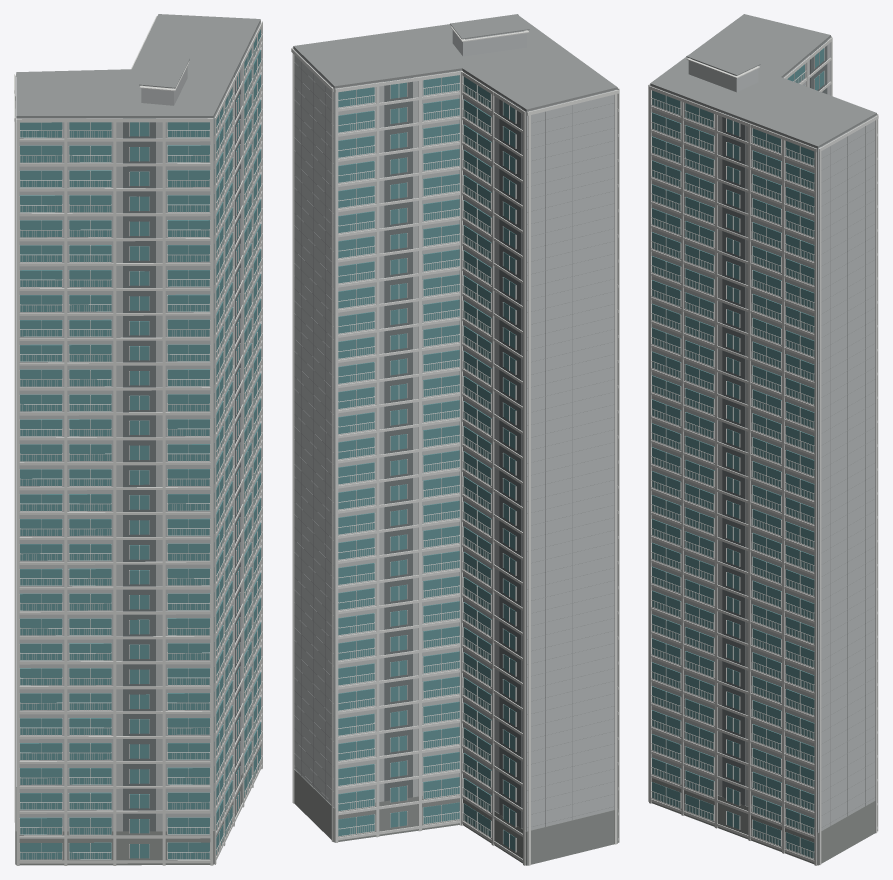
The model's file is bespoke-jamsil-ricenz-220.glb.
The picture shows the model from 3 angles, left to right: view 1: azimuth 30°, elevation 25°; view 2: azimuth 150°, elevation 25°; view 3: azimuth 270°, elevation 25°; orthographic projection. The views are drawn at different scales.
Visible parts, largest first — view 1: Ricenz220_editable_Ricenz220_turquoise_balcony_glazing, Ricenz220_editable_Ricenz220_light_grey_solid_wall, Ricenz220_white_exact_chunk_0, Ricenz220_white_exact_chunk_1, Ricenz220_editable_Ricenz220_narrow_charcoal_service_strips, Ricenz220_editable_Ricenz220_modest_grey_flat_roof_caps, Ricenz220_white_exact_chunk_2, Ricenz220_white_exact_chunk_3, Ricenz220_editable_Ricenz220_muted_ground_wall; view 2: Ricenz220_editable_Ricenz220_light_grey_solid_wall, Ricenz220_editable_Ricenz220_turquoise_balcony_glazing, Ricenz220_white_exact_chunk_3, Ricenz220_editable_Ricenz220_modest_grey_flat_roof_caps, Ricenz220_editable_Ricenz220_narrow_charcoal_service_strips, Ricenz220_white_exact_chunk_4, Ricenz220_editable_Ricenz220_muted_ground_wall, Ricenz220_white_exact_chunk_0, Ricenz220_white_exact_chunk_1; view 3: Ricenz220_editable_Ricenz220_light_grey_solid_wall, Ricenz220_editable_Ricenz220_turquoise_balcony_glazing, Ricenz220_white_exact_chunk_2, Ricenz220_white_exact_chunk_3, Ricenz220_editable_Ricenz220_modest_grey_flat_roof_caps, Ricenz220_white_exact_chunk_1, Ricenz220_editable_Ricenz220_narrow_charcoal_service_strips, Ricenz220_editable_Ricenz220_muted_ground_wall, Ricenz220_white_exact_chunk_4.
Part boxes in pixels (bbox=[...]): Ricenz220_editable_Ricenz220_turquoise_balcony_glazing: bbox=[19, 29, 260, 859]; Ricenz220_editable_Ricenz220_light_grey_solid_wall: bbox=[16, 22, 260, 830]; Ricenz220_white_exact_chunk_0: bbox=[14, 74, 210, 864]; Ricenz220_white_exact_chunk_1: bbox=[16, 105, 234, 865]; Ricenz220_editable_Ricenz220_narrow_charcoal_service_strips: bbox=[123, 63, 240, 831]; Ricenz220_editable_Ricenz220_modest_grey_flat_roof_caps: bbox=[15, 14, 260, 118]; Ricenz220_white_exact_chunk_2: bbox=[225, 47, 262, 821]; Ricenz220_white_exact_chunk_3: bbox=[131, 16, 262, 864]; Ricenz220_editable_Ricenz220_muted_ground_wall: bbox=[15, 739, 261, 865]; Ricenz220_editable_Ricenz220_light_grey_solid_wall: bbox=[293, 30, 617, 831]; Ricenz220_editable_Ricenz220_turquoise_balcony_glazing: bbox=[338, 75, 516, 851]; Ricenz220_white_exact_chunk_3: bbox=[291, 47, 491, 842]; Ricenz220_editable_Ricenz220_modest_grey_flat_roof_caps: bbox=[293, 14, 617, 827]; Ricenz220_editable_Ricenz220_narrow_charcoal_service_strips: bbox=[384, 77, 521, 827]; Ricenz220_white_exact_chunk_4: bbox=[450, 26, 529, 865]; Ricenz220_editable_Ricenz220_muted_ground_wall: bbox=[294, 769, 618, 865]; Ricenz220_white_exact_chunk_0: bbox=[527, 90, 618, 865]; Ricenz220_white_exact_chunk_1: bbox=[617, 88, 619, 842]; Ricenz220_editable_Ricenz220_light_grey_solid_wall: bbox=[650, 37, 876, 832]; Ricenz220_editable_Ricenz220_turquoise_balcony_glazing: bbox=[652, 48, 824, 858]; Ricenz220_white_exact_chunk_2: bbox=[683, 103, 814, 862]; Ricenz220_white_exact_chunk_3: bbox=[648, 86, 878, 865]; Ricenz220_editable_Ricenz220_modest_grey_flat_roof_caps: bbox=[650, 14, 876, 827]; Ricenz220_white_exact_chunk_1: bbox=[648, 84, 714, 825]; Ricenz220_editable_Ricenz220_narrow_charcoal_service_strips: bbox=[722, 40, 827, 805]; Ricenz220_editable_Ricenz220_muted_ground_wall: bbox=[651, 774, 875, 865]; Ricenz220_white_exact_chunk_4: bbox=[686, 37, 832, 96].
Size of the model in its own units: 35.42 by 90.96 by 25.74.
